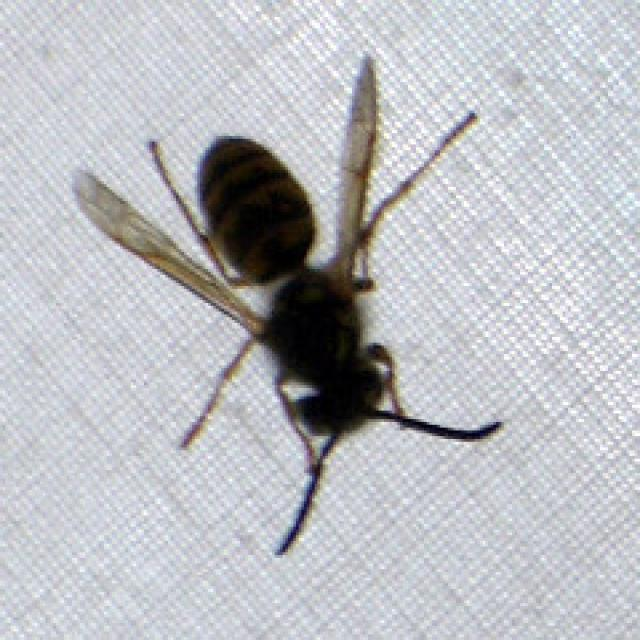Guepe: (41, 38, 531, 555)
